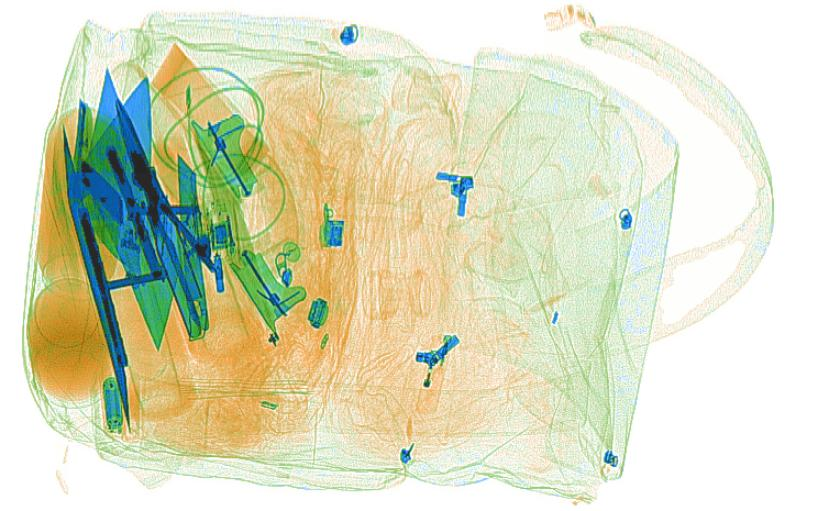battery: (97, 375, 126, 436)
knife: (171, 149, 211, 334)
